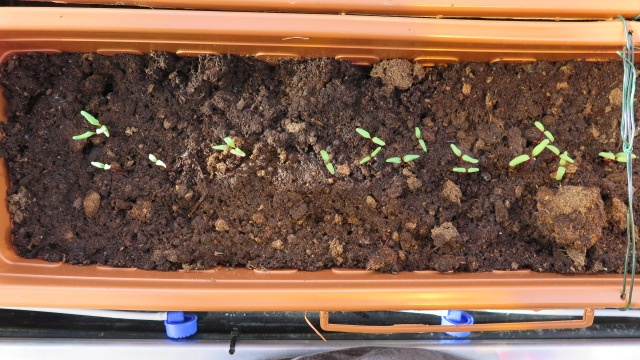crop: (504, 140, 550, 170), (544, 141, 581, 171), (224, 133, 250, 166), (447, 141, 483, 163), (352, 125, 388, 146), (316, 146, 339, 177), (410, 123, 433, 154), (68, 126, 115, 141), (534, 119, 559, 144), (355, 146, 385, 166), (78, 108, 107, 127), (209, 142, 245, 157), (382, 153, 424, 165), (599, 149, 636, 162), (144, 151, 168, 170), (445, 165, 482, 175), (558, 146, 567, 186), (87, 160, 114, 171)
